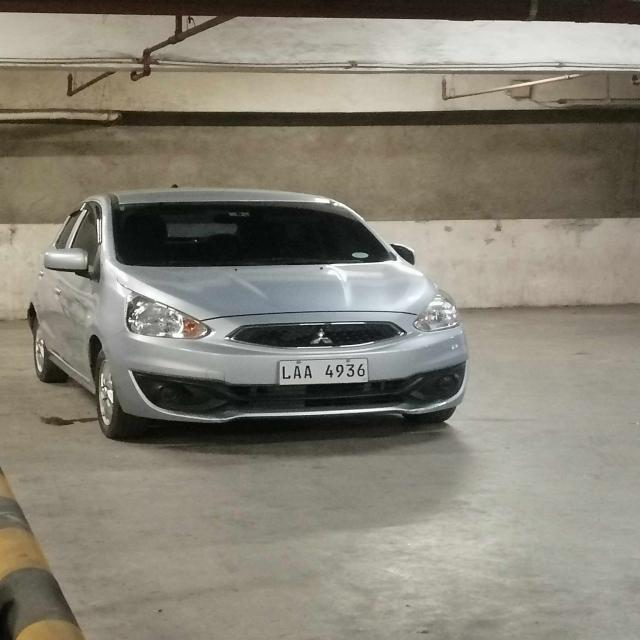license-plate: (277, 359, 368, 385)
